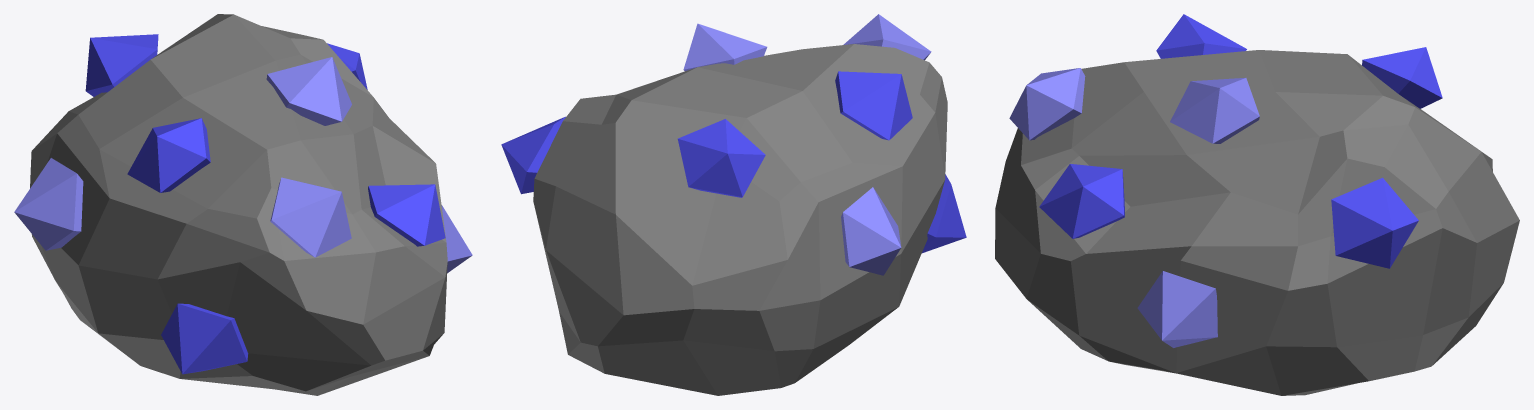
Rendered from MineralNode_02_C.fbx.
The picture shows the model from 3 angles, left to right: view 1: azimuth 30°, elevation 25°; view 2: azimuth 150°, elevation 25°; view 3: azimuth 270°, elevation 25°; orthographic projection. The views are drawn at different scales.
Parts seen in each view (by area): view 1: MineralNode_02_C; view 2: MineralNode_02_C; view 3: MineralNode_02_C.
Boxes of the visible parts, box(x1,y1,x2,y2) form: MineralNode_02_C: box(14, 14, 472, 395); MineralNode_02_C: box(501, 14, 966, 395); MineralNode_02_C: box(995, 14, 1519, 395).
Size of the model in its own units: 84.83 by 62.61 by 103.
